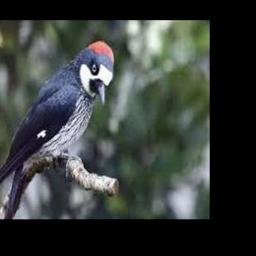Woodpecker: (0, 38, 113, 219)
